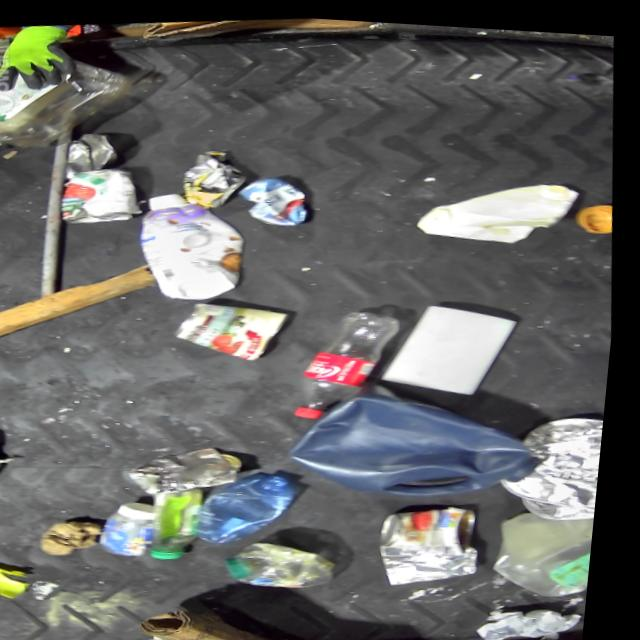can: (171, 289, 302, 367), (132, 436, 252, 498), (384, 493, 489, 556), (383, 530, 492, 586), (59, 162, 152, 227), (178, 142, 256, 209), (234, 168, 317, 228), (60, 126, 126, 180), (0, 431, 16, 486)
milk_jug: (493, 494, 604, 598)
non_white_jug: (285, 356, 559, 509)
plastic_bottle: (288, 298, 416, 420)
